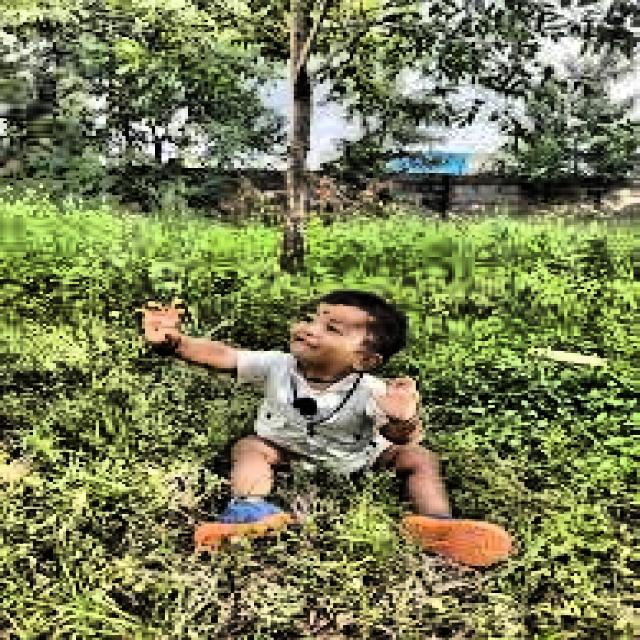Human: (125, 271, 529, 585)
